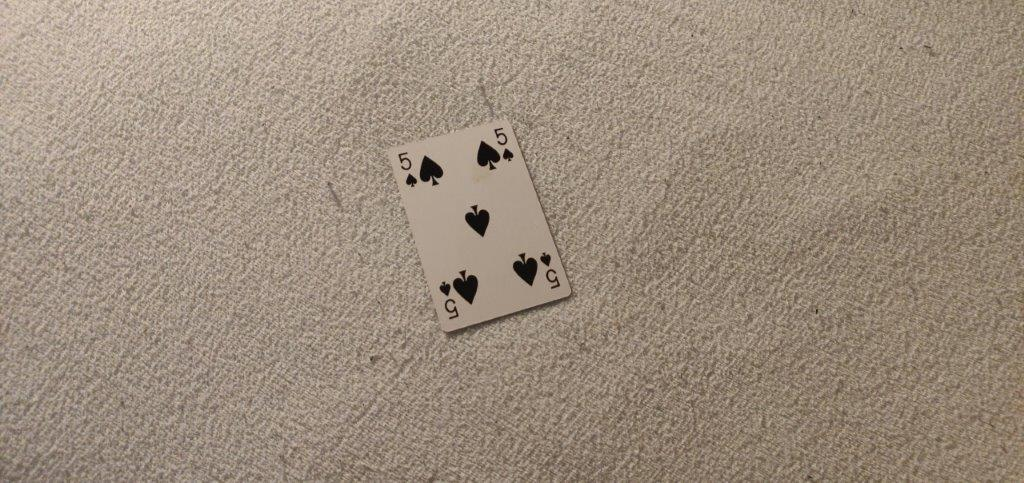5S: (492, 126, 519, 169), (396, 148, 421, 192)
